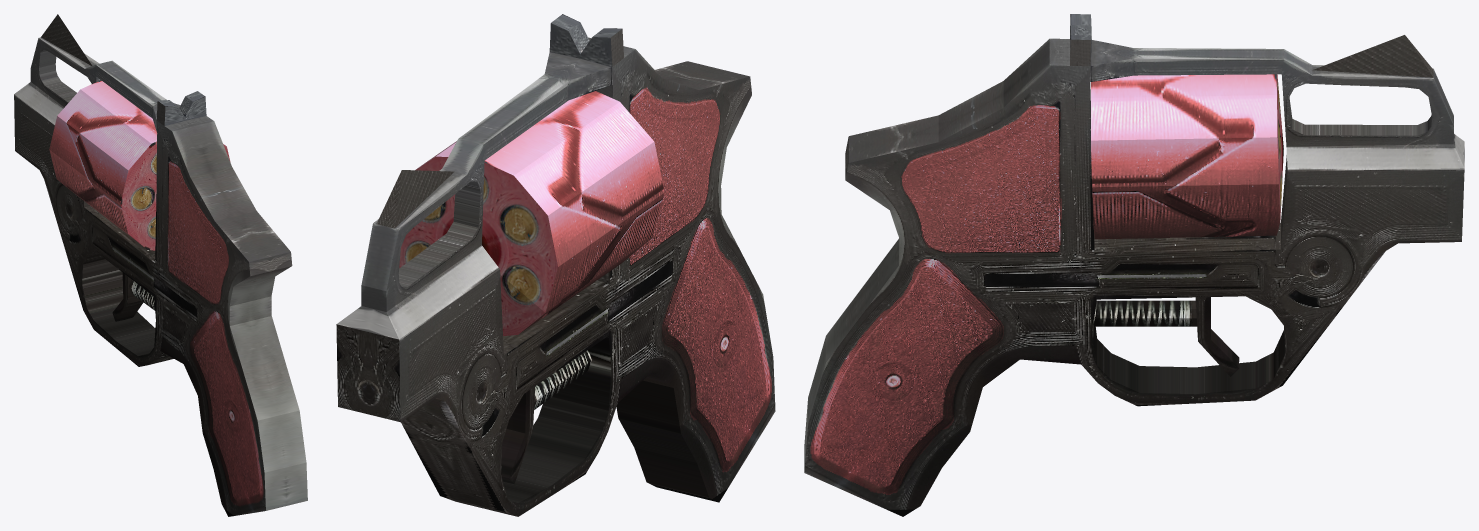
The model's file is pippy.glb.
3 renders of one model, left to right at view 1: azimuth 30°, elevation 25°; view 2: azimuth 150°, elevation 25°; view 3: azimuth 270°, elevation 25°, orthographic. The views are drawn at different scales.
Parts seen in each view (by area): view 1: Cube.001; view 2: Cube.001; view 3: Cube.001.
Part boxes in pixels (box(x1,y1,x2,y2)): Cube.001: box(14, 14, 307, 516); Cube.001: box(336, 14, 775, 516); Cube.001: box(804, 14, 1464, 516).
Size of the model in its own units: 0.1045 by 0.3211 by 0.4031.
1 material, 1 textured.
